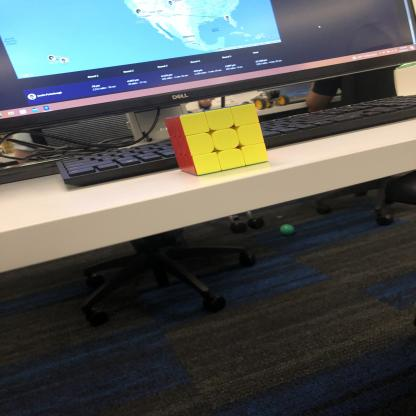SolvedCube: (161, 105, 267, 174)
